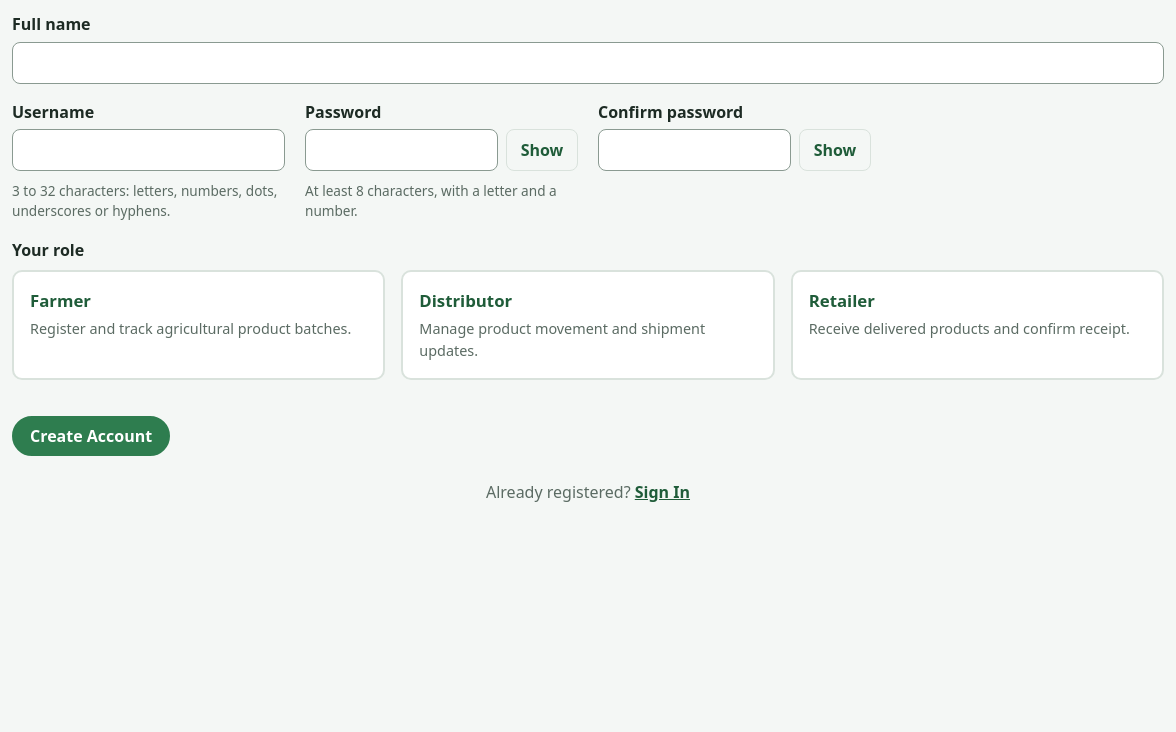
Test: RegisterForm › checks the password confirmation
The width and height of the screenshot is (1176, 732).
Type "Asha Farmer" into the field labelled "Full name" at (588, 63), box [12,42,1164,84]
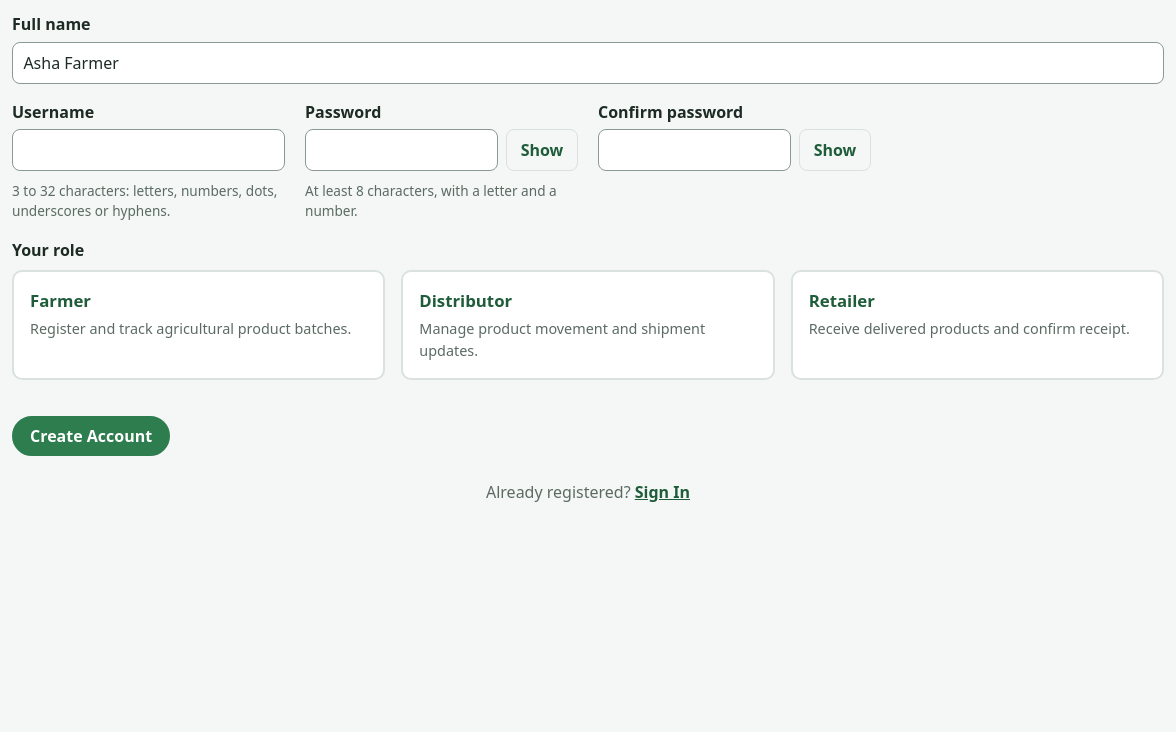
Type "asha.farmer" into the field labelled "Username" at (148, 150), box [12,129,285,171]
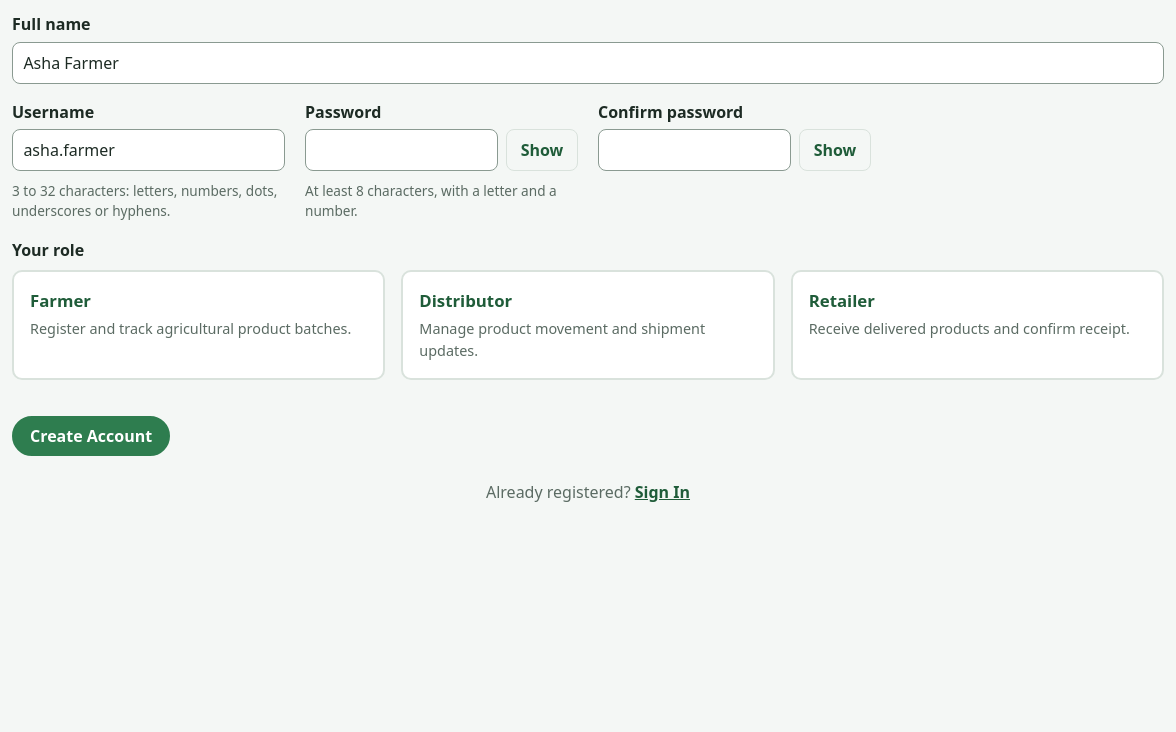
Type "Sunrise2026" into the password field labelled "Password" at (402, 150), box [305,129,498,171]
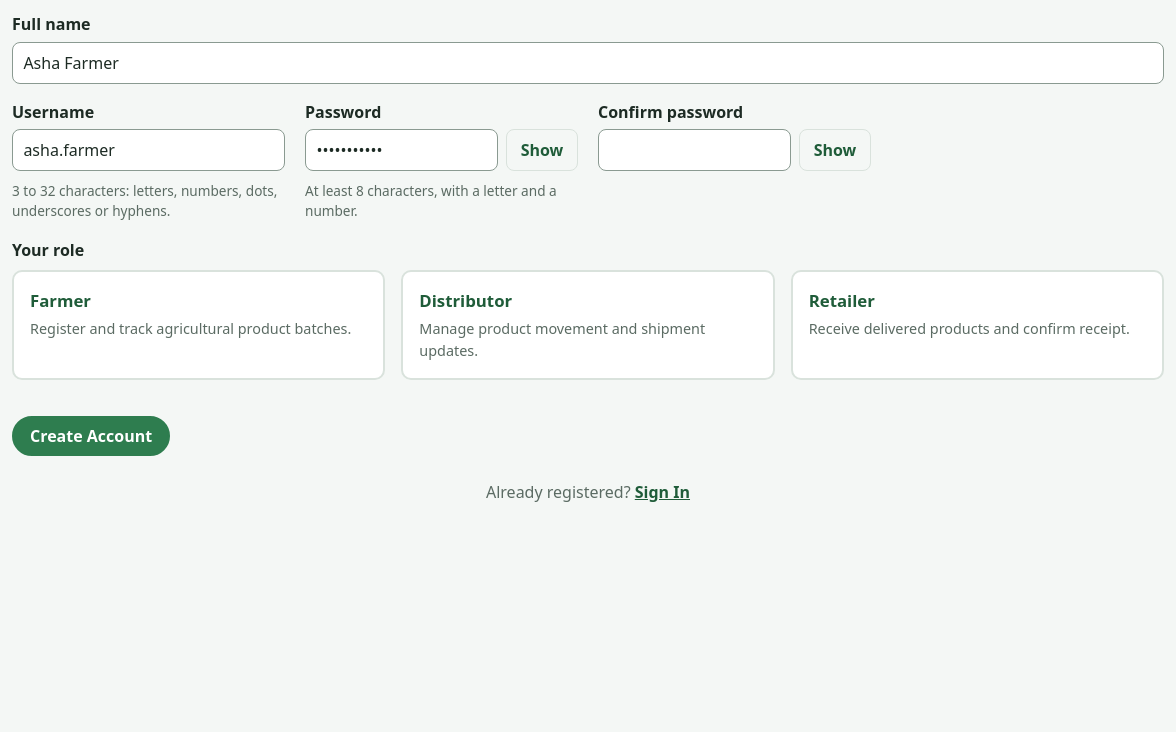
Type "Different2026" into the password field labelled "Confirm password" at (694, 150), box [598,129,791,171]
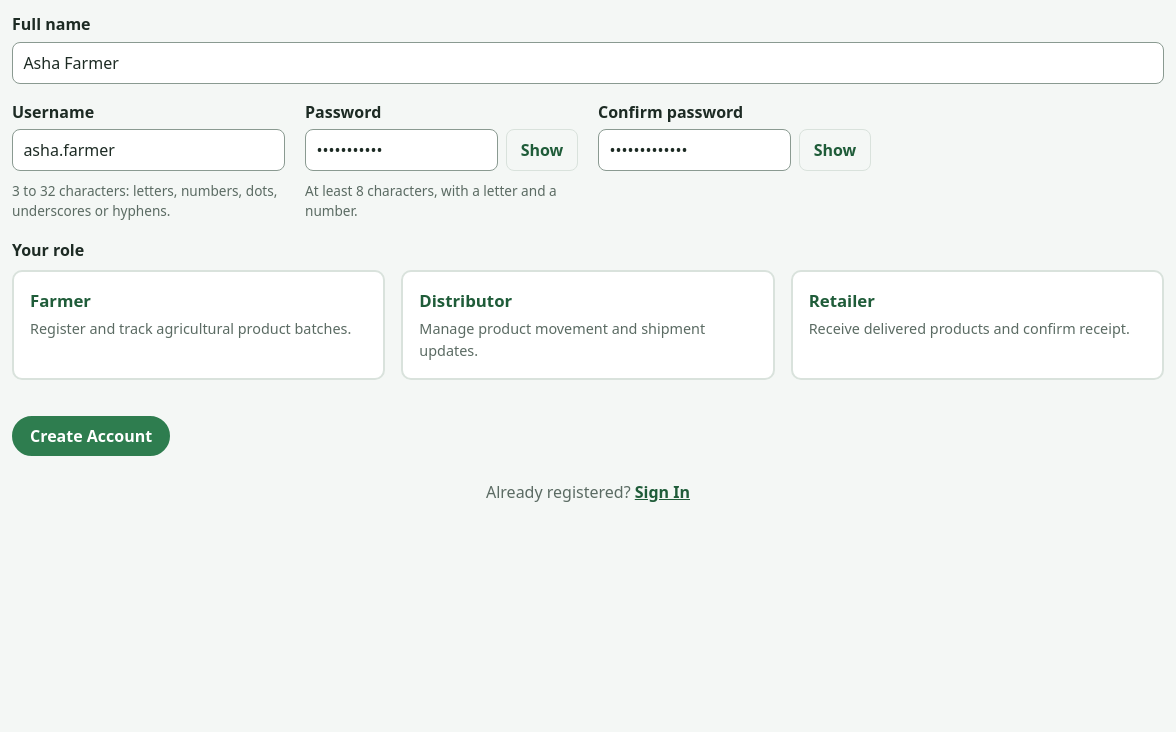
Click the radio button labelled "Retailer Receive delivered products and confirm receipt." at (977, 325), box [791,270,1164,380]
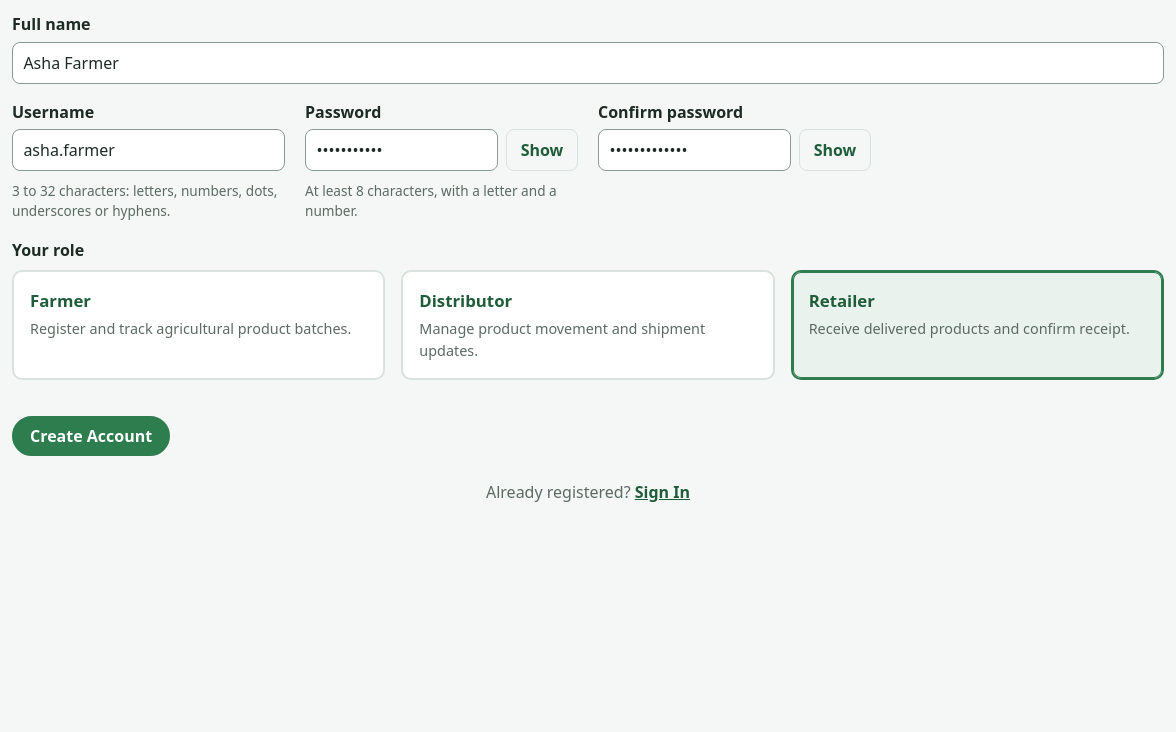
Click the button "Create Account" at (91, 436), box [12,416,170,456]
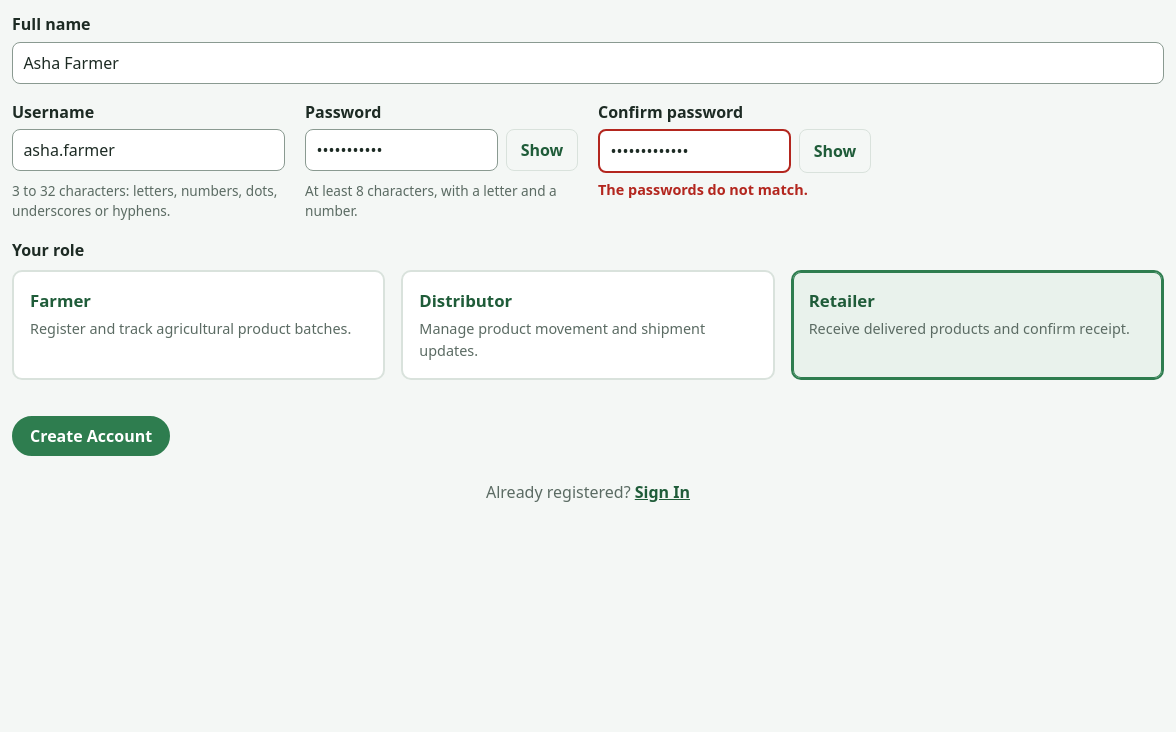
Expected: the text "The passwords do not match." is shown, [598,180,808,199]
